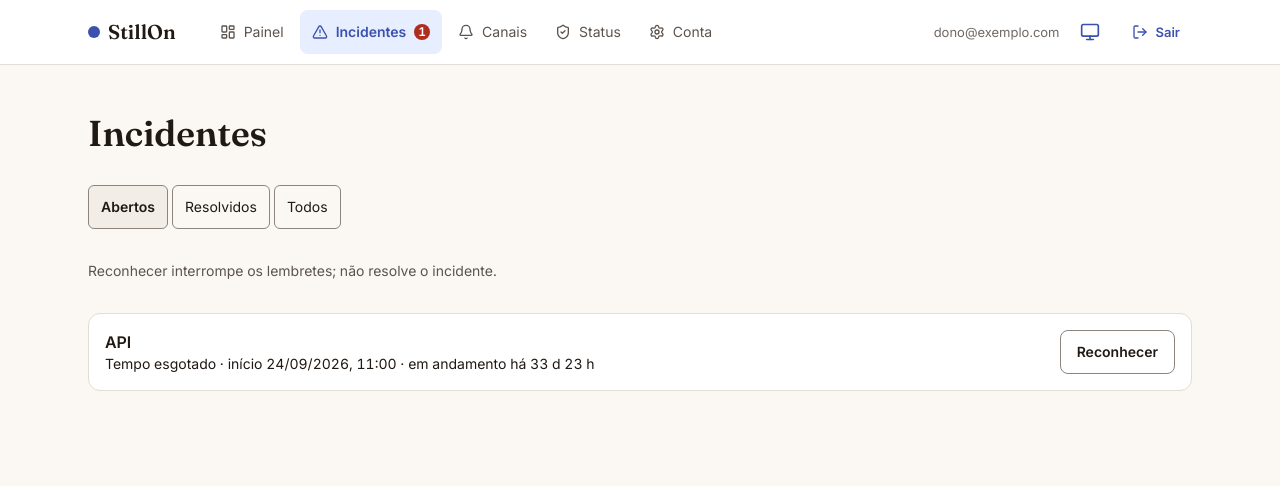
Test: incidentes › um ack que falha mostra o erro, e trocar o filtro o limpa
This screenshot has width=1280, height=486.
Click the button with aria-label "Reconhecer o incidente de API" at x=1117, y=352, box 1060,330 -> 1175,374
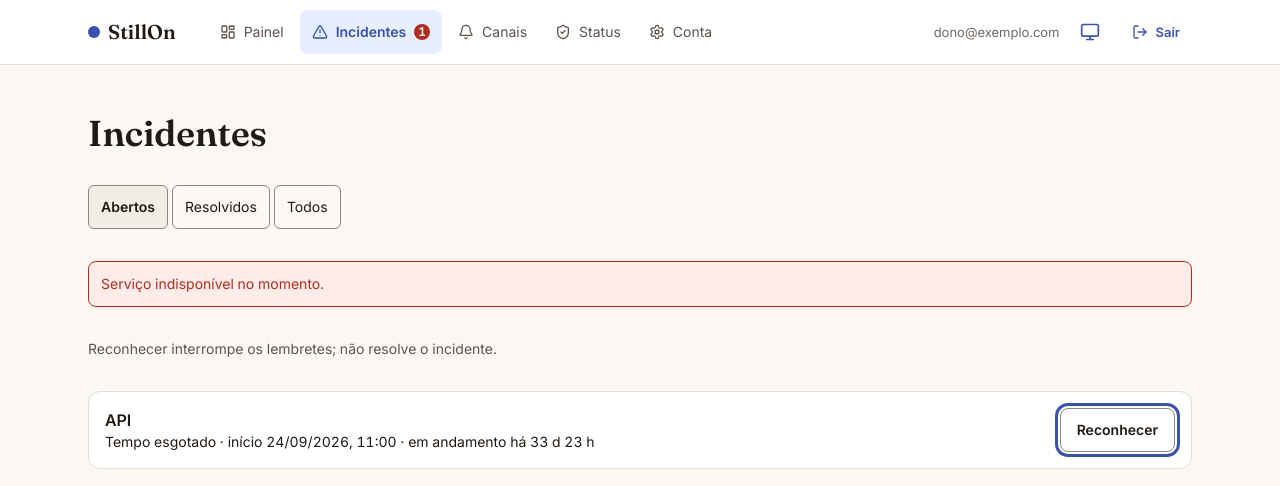
Expected: the button with aria-label "Reconhecer o incidente de API" is enabled, 1060,408 -> 1175,452
Click the button "Todos" at x=307, y=207, box 274,185 -> 341,229
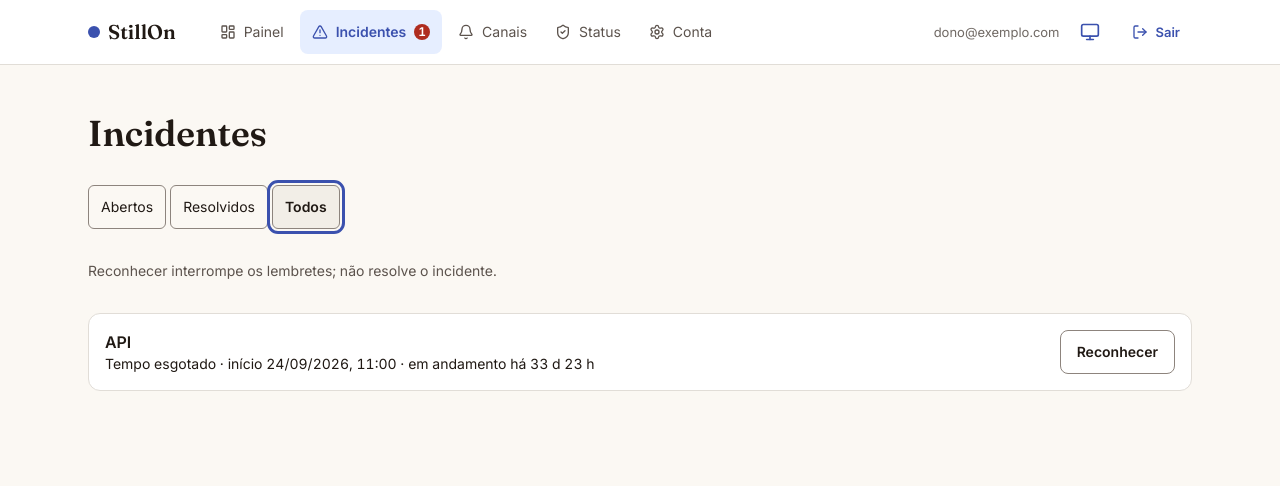
Expected: the message "Serviço indisponível no momento." is gone
